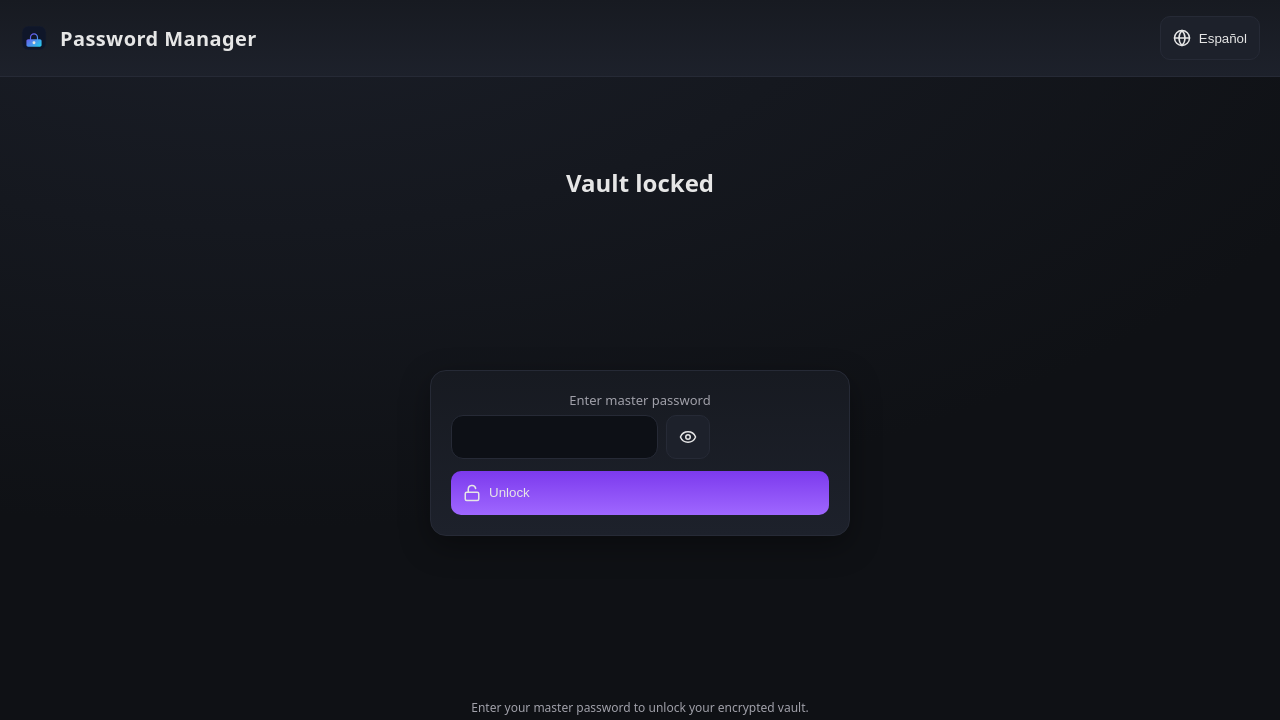
session-state › lock wipes entries and the session key — entries only return via storage
The width and height of the screenshot is (1280, 720).
Expected: the heading "Vault locked" is shown, [566,166,714,199]
In the password field labelled "Enter master password": (554, 437) [451,415,658,459], type "Str0ng!Pass"
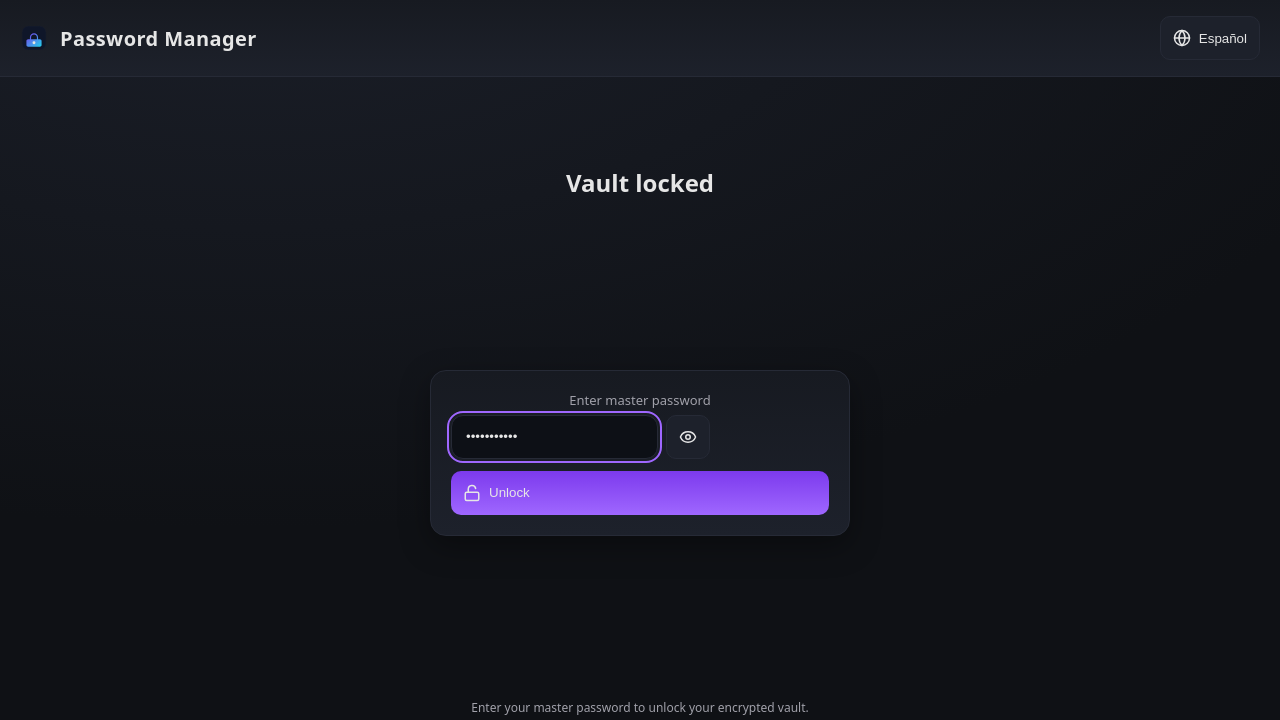
Click the button "Unlock": (509, 493) [451,471,829,515]
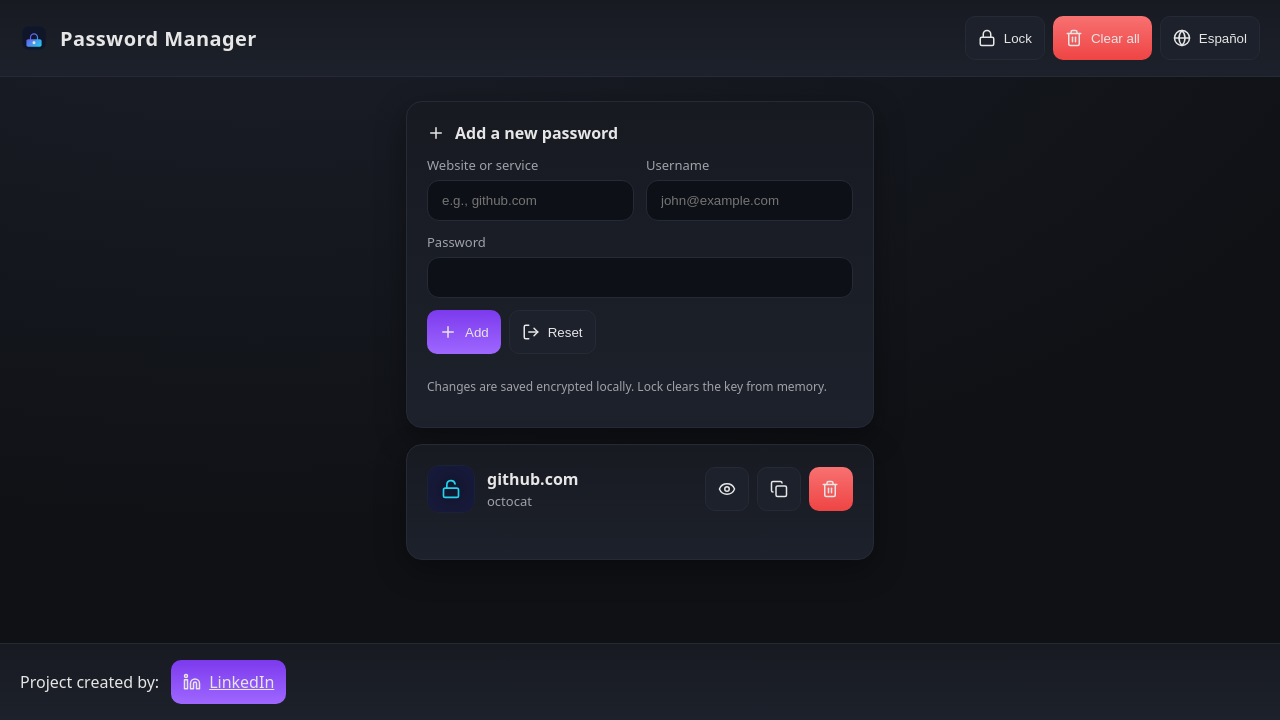
Expected: the text "github.com" is shown, [487,468,578,490]
Click the button "Lock": (1005, 38) [965,16,1045,60]
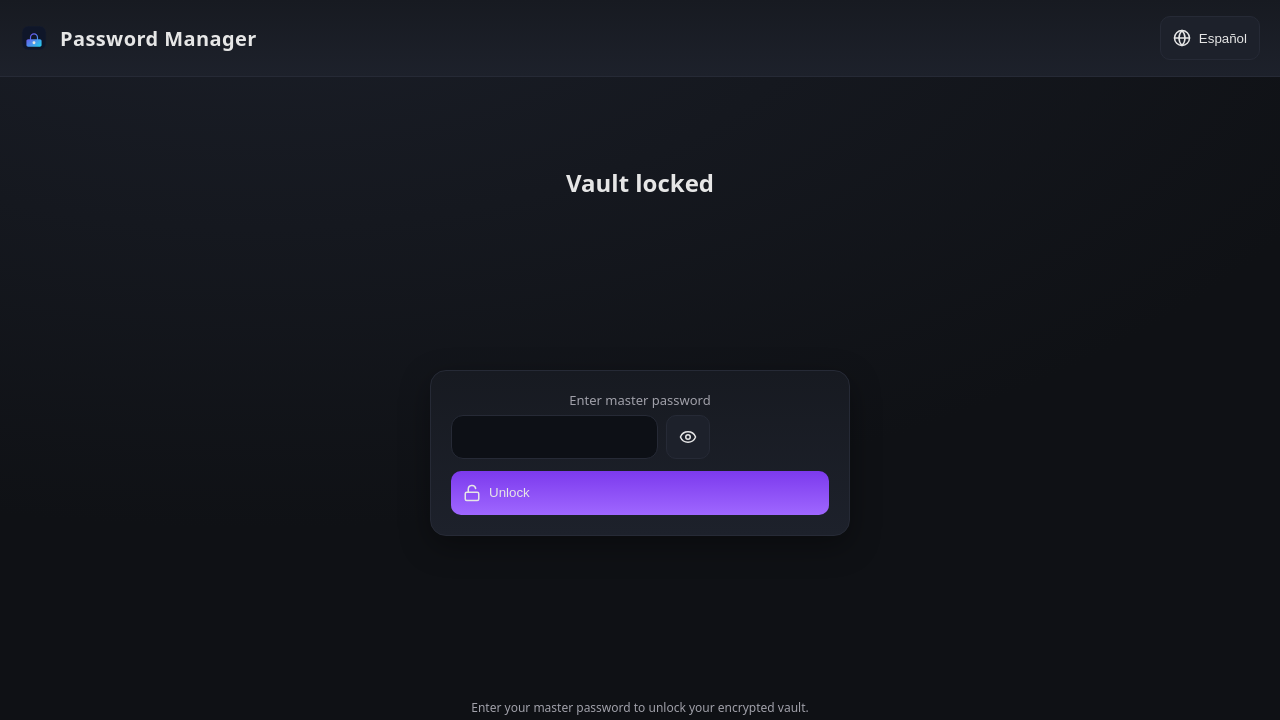
Expected: the heading "Vault locked" is shown, [566,166,714,199]
Expected: the text "github.com" is gone
In the password field labelled "Enter master password": (554, 437) [451,415,658,459], type "Str0ng!Pass"
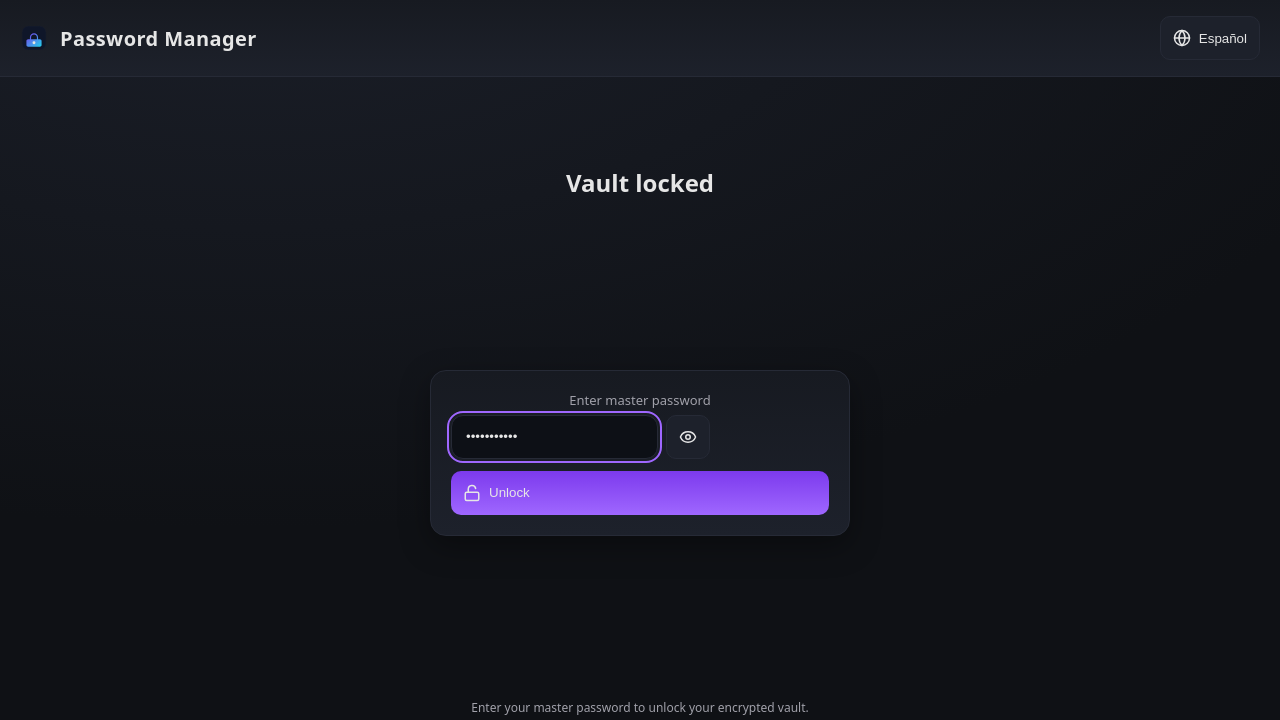
Click the button "Unlock": (509, 493) [451,471,829,515]
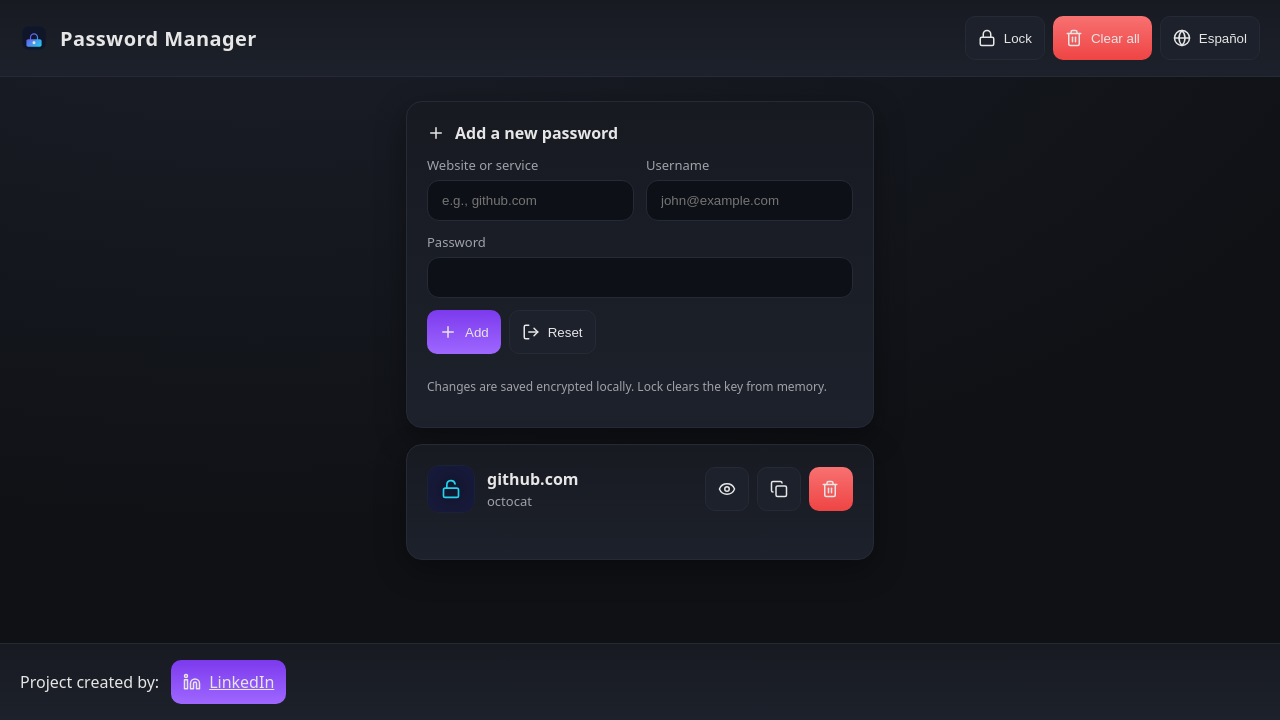
Expected: the text "github.com" is shown, [487,468,578,490]
